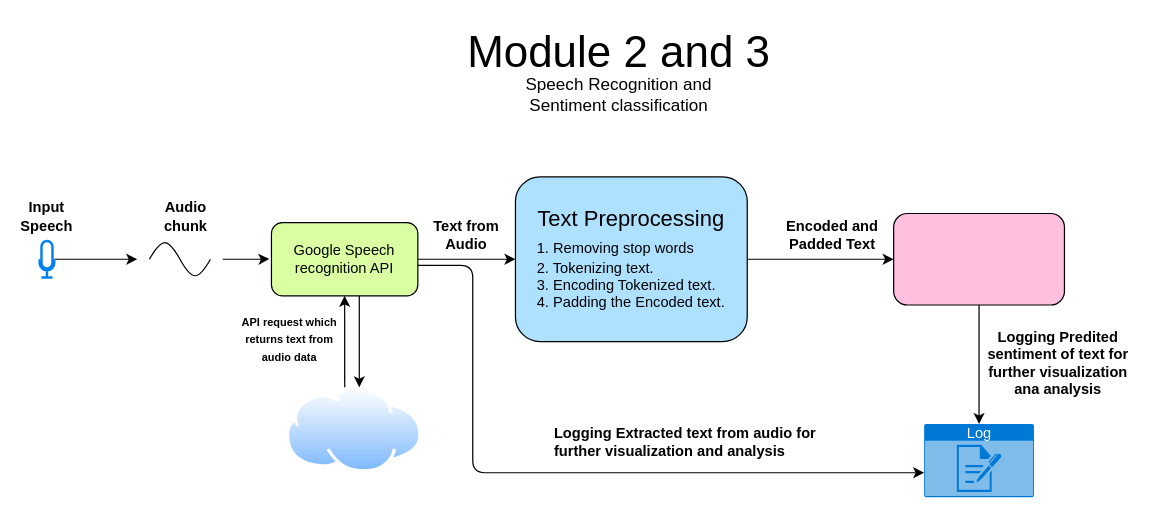
Image size: 1159x522. Some labels were removed from this diagram. The shapes that lost their labels are listed below. From the top down, each one's centre as x and y in pixels, then its label:
At pixel 978 258: "Trained Text classification CNN model".
At pixel 354 429: "Google Speech-to-text API server".
